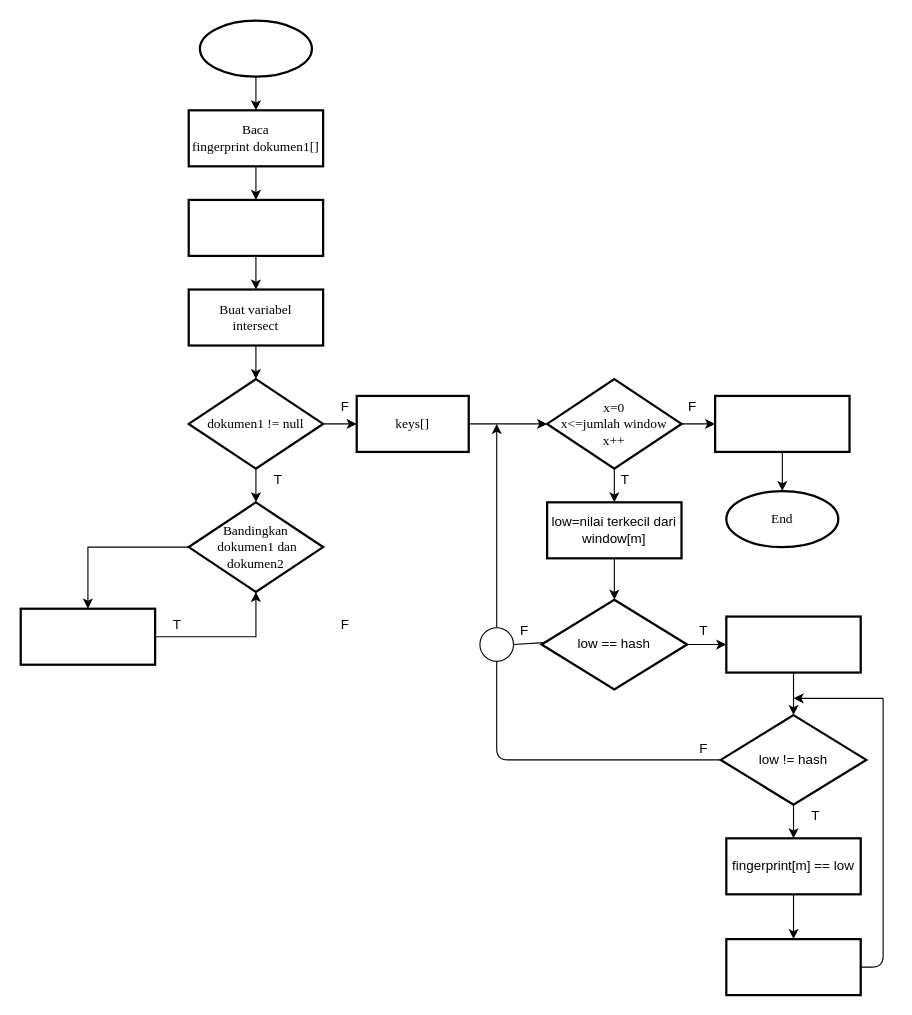
This 912x1015 diagram has some shape labels left out. The centre of each missing label's shape, as x and y in pixels:
Baca fingerprint dokumen2[]: the point at 255,227
key[] adalah nilai terkecil di hash: the point at 793,644
keys[m]==key: the point at 793,966
return fingerprint: the point at 781,423
Start: the point at 255,48
window [$k][$i]: the point at 87,636
